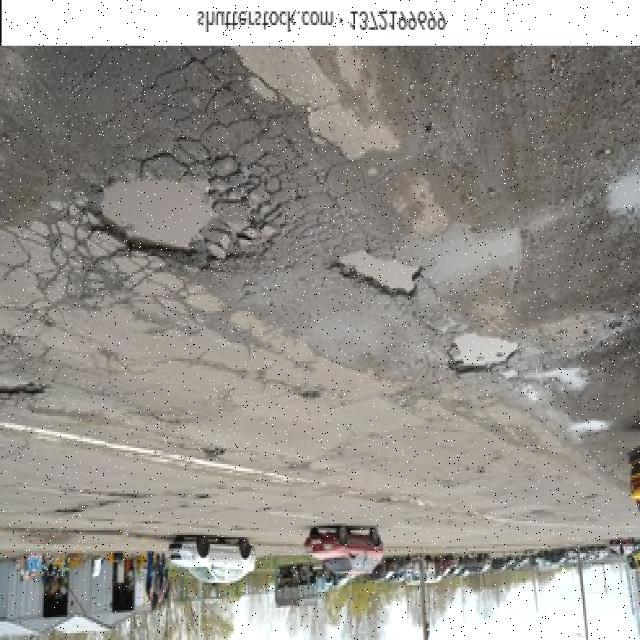Pothole: (99, 177, 217, 249), (338, 248, 424, 294), (449, 330, 522, 372), (0, 379, 44, 403)
